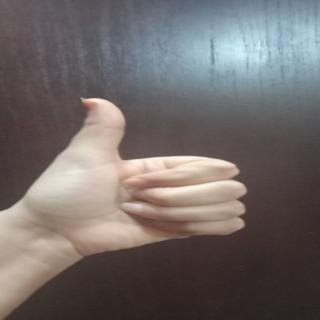ALIF: (28, 92, 263, 266)
